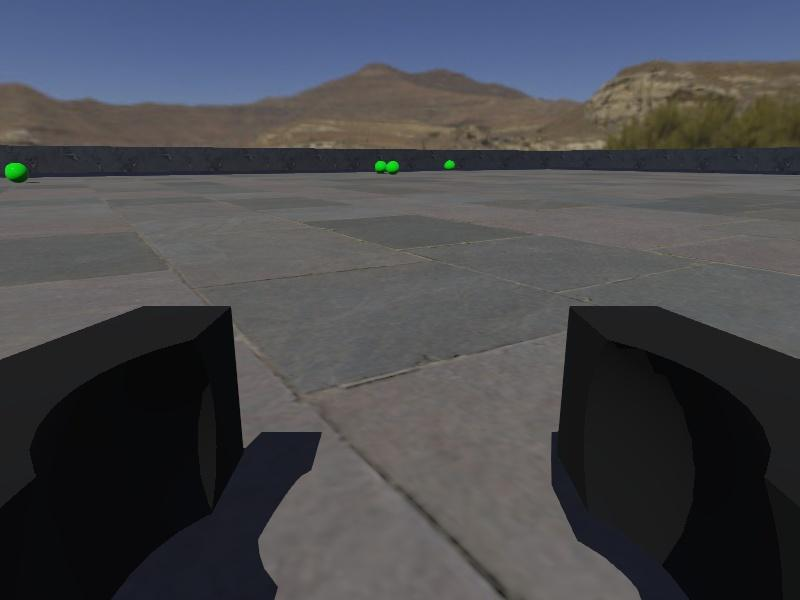green ball: (5, 162, 29, 183), (385, 158, 401, 174), (442, 158, 456, 172)
